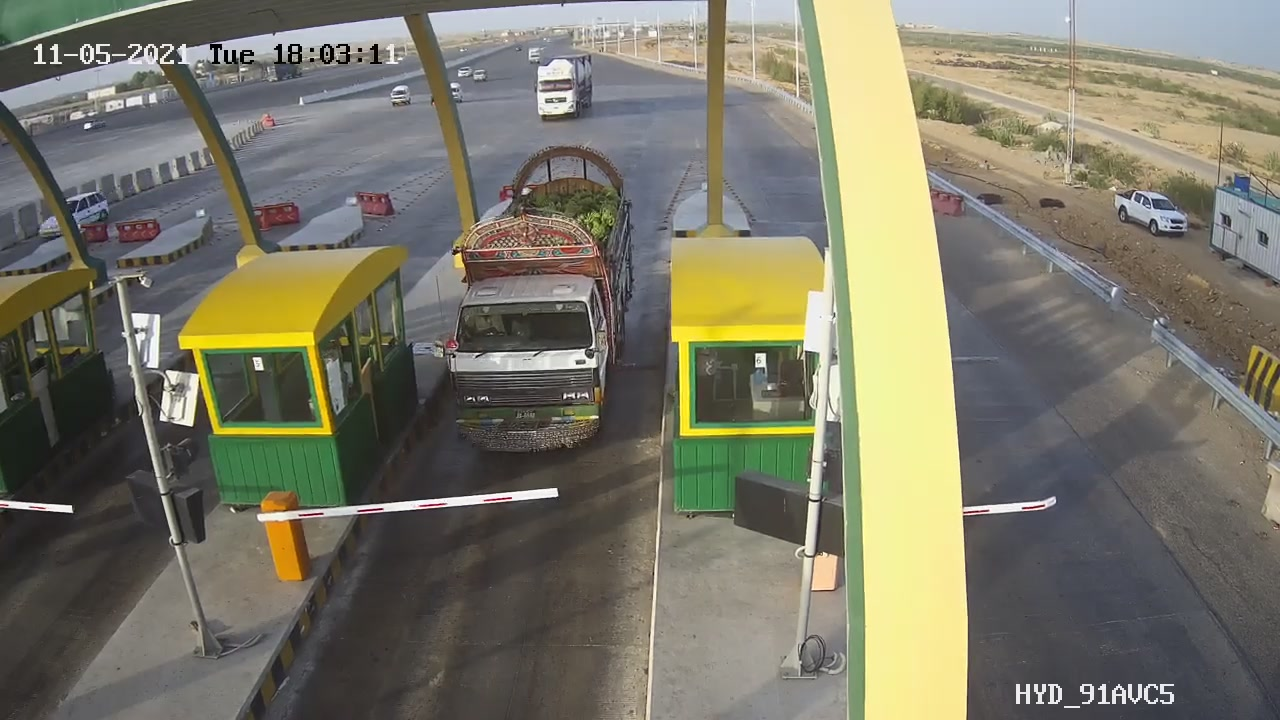F5: (417, 135, 650, 473)
